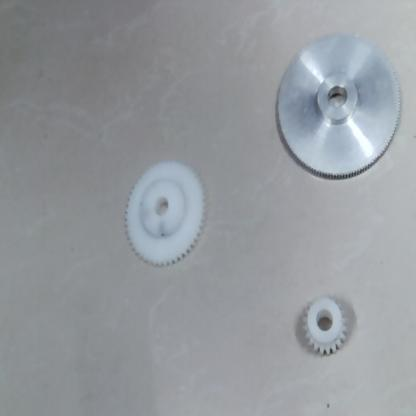FOD: (268, 35, 404, 181), (119, 154, 211, 273), (297, 292, 347, 357)
